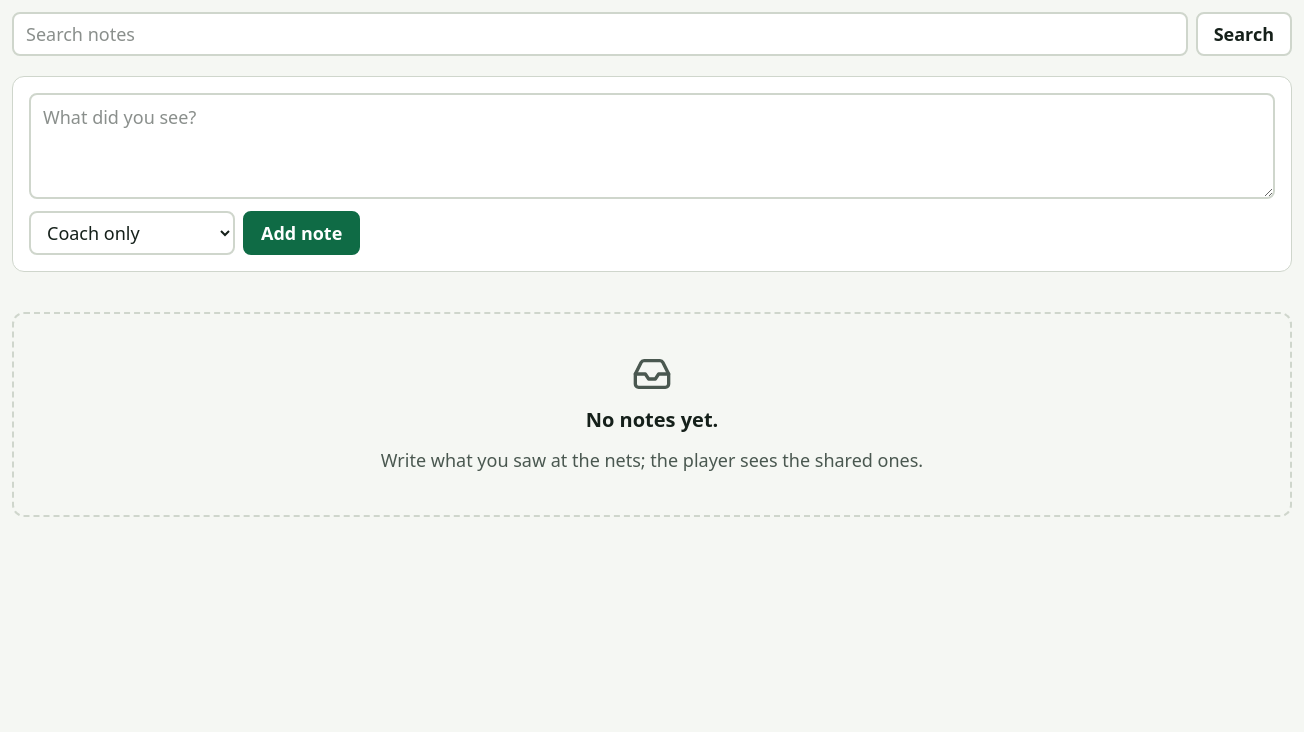
Test: NotesPanel › shows the empty state and load errors, and retries
Expected: the element with test id "notes-empty" is shown, [12,312,1292,517]
Submit the form named "Search notes", box [12,12,1292,56]
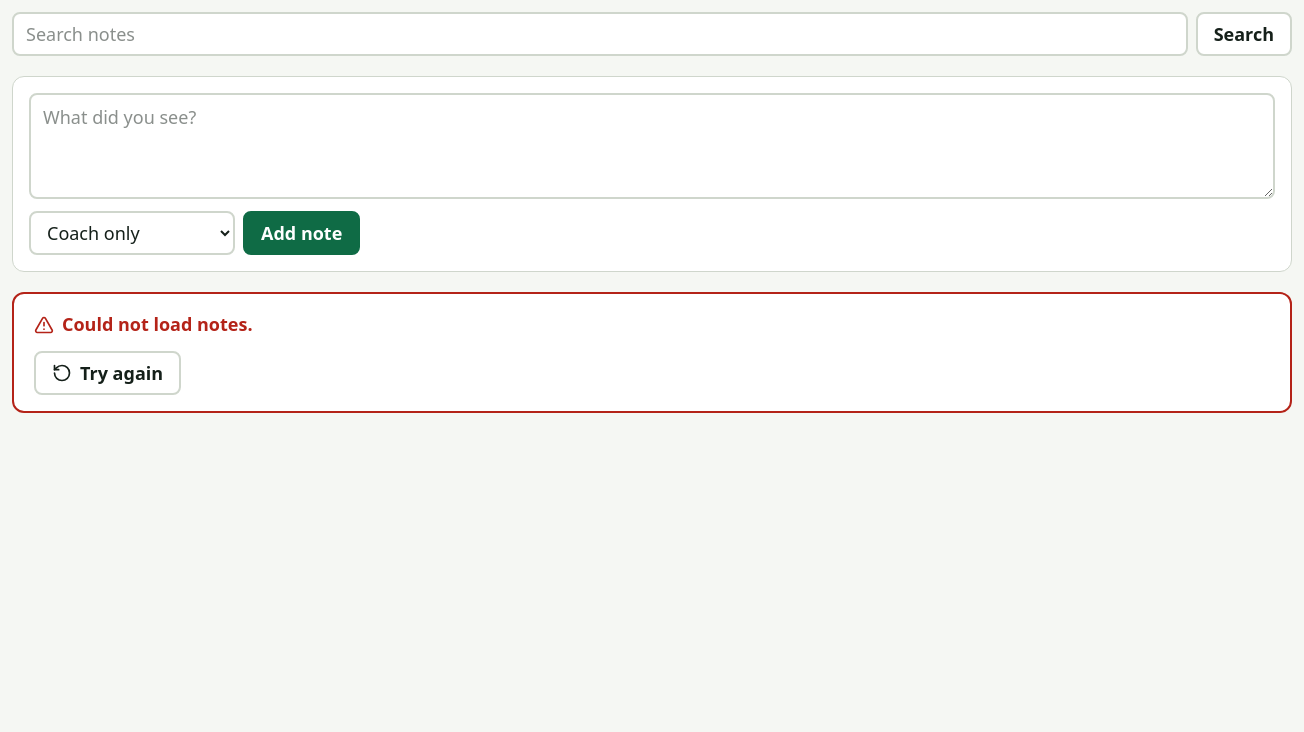
Expected: the message shows "Could not load notes.", [62,312,252,336]
Click the button "Try again": {"x": 108, "y": 373} [34,351,181,395]
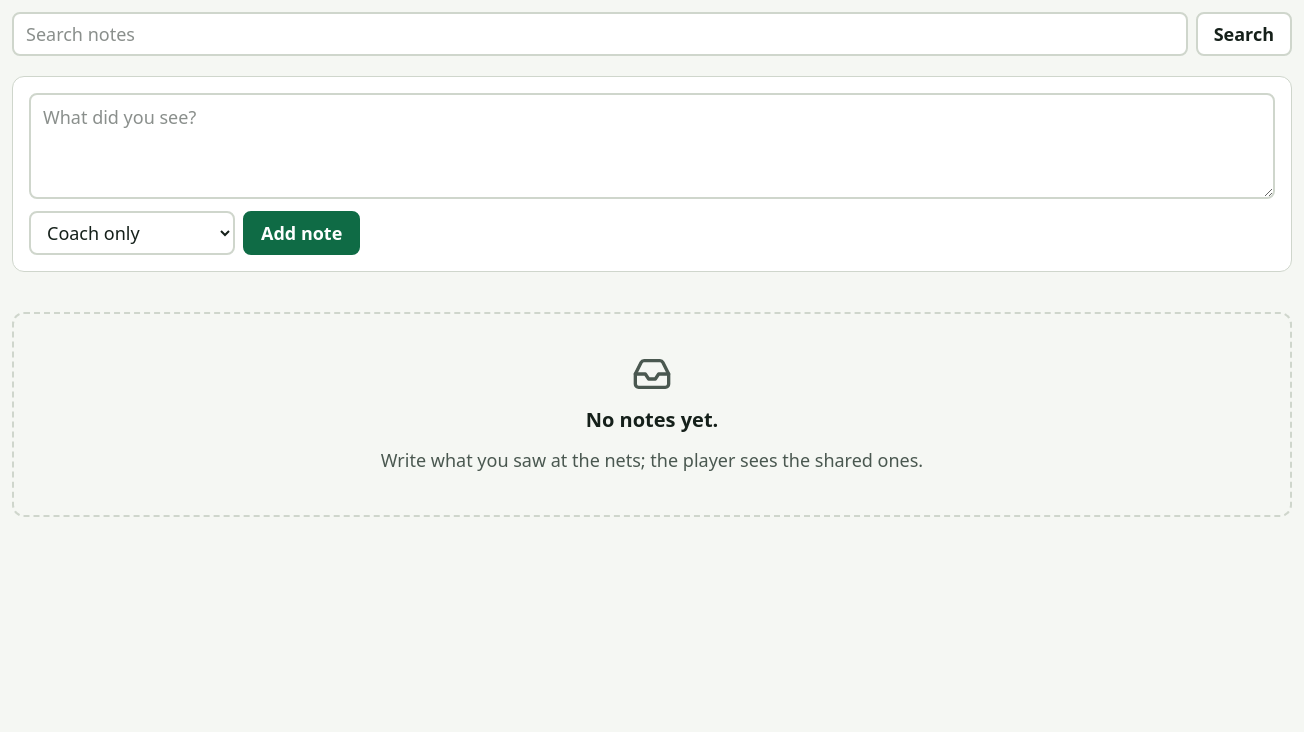
Expected: the element with test id "notes-empty" is shown, [12,312,1292,517]
